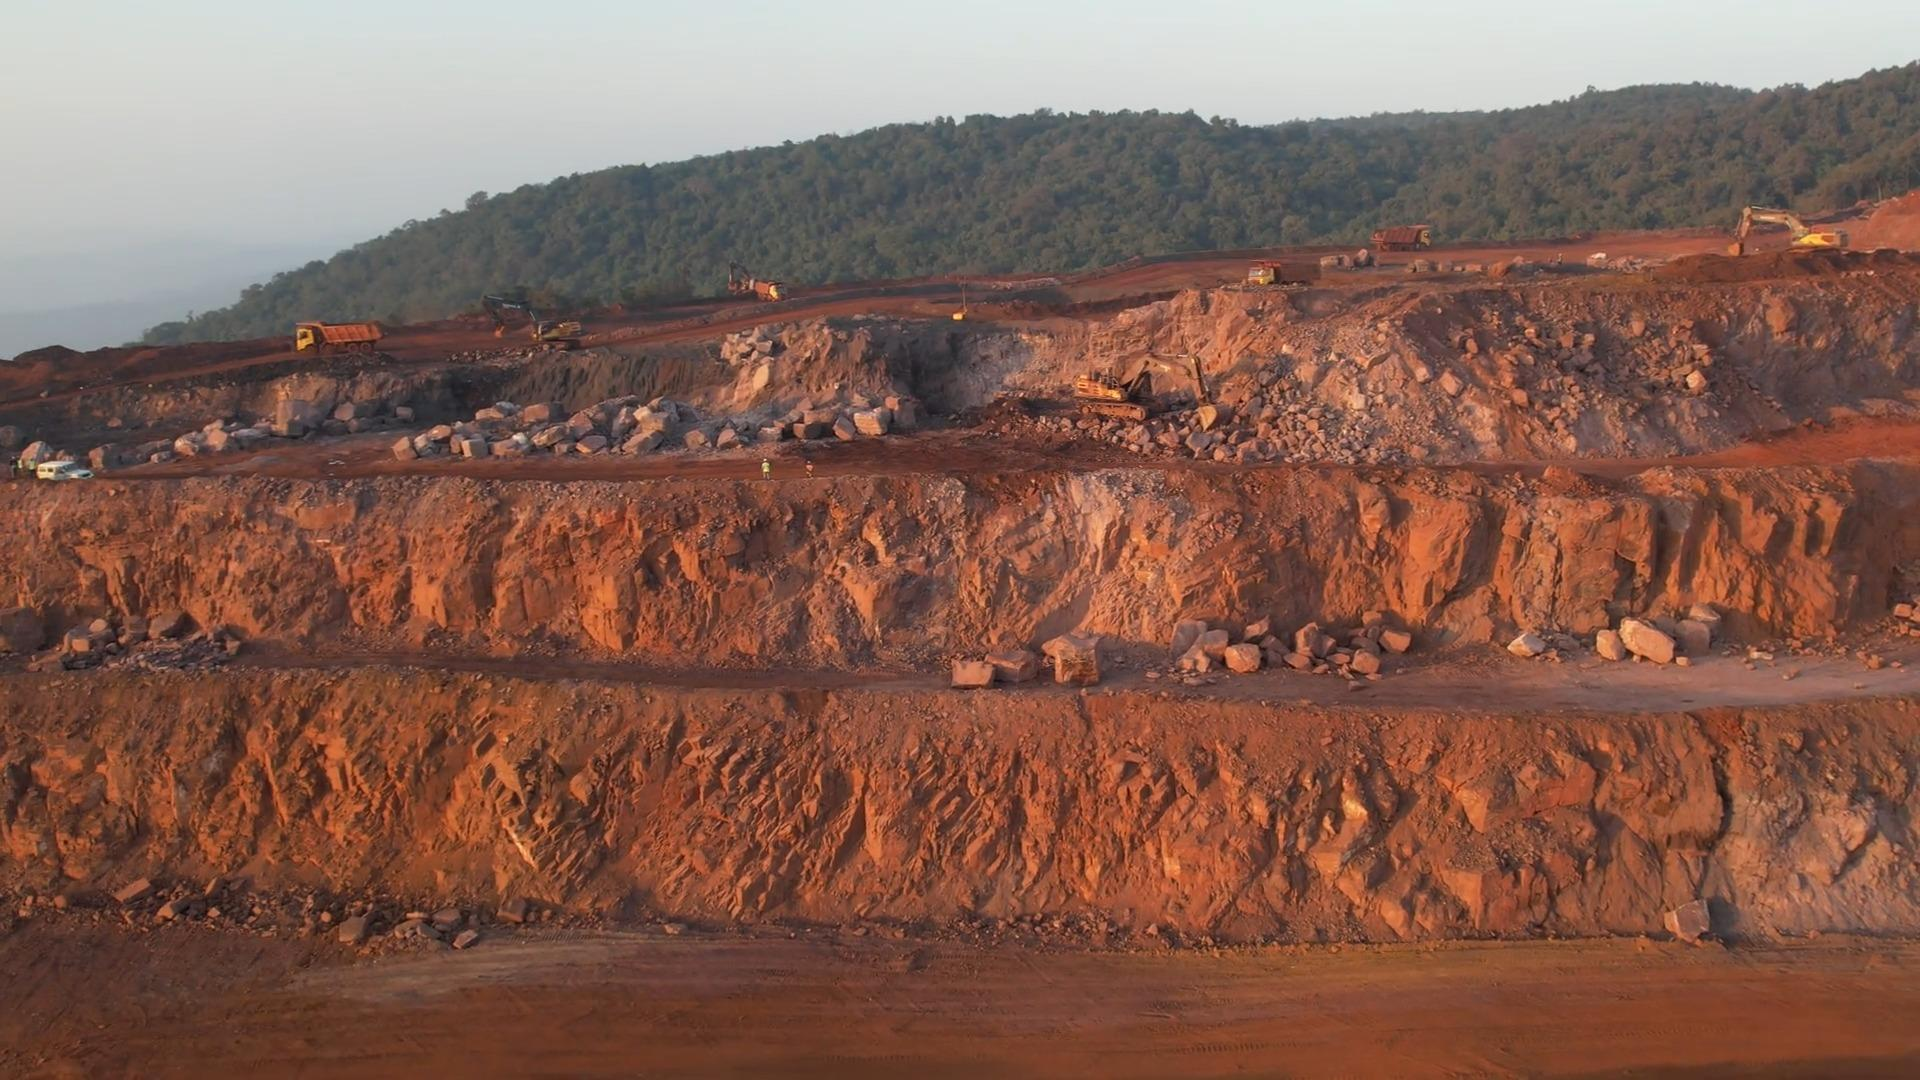excavator: (1079, 363, 1216, 421), (1734, 206, 1845, 258), (484, 295, 585, 352)
